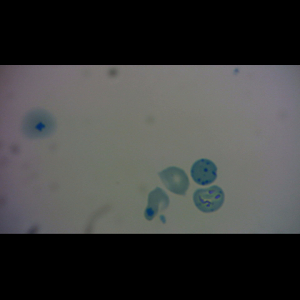aggregate reticulocyte: (190, 157, 219, 186)
erythrocyte: (19, 107, 59, 141), (158, 165, 191, 197), (143, 186, 170, 223), (192, 185, 225, 214)
